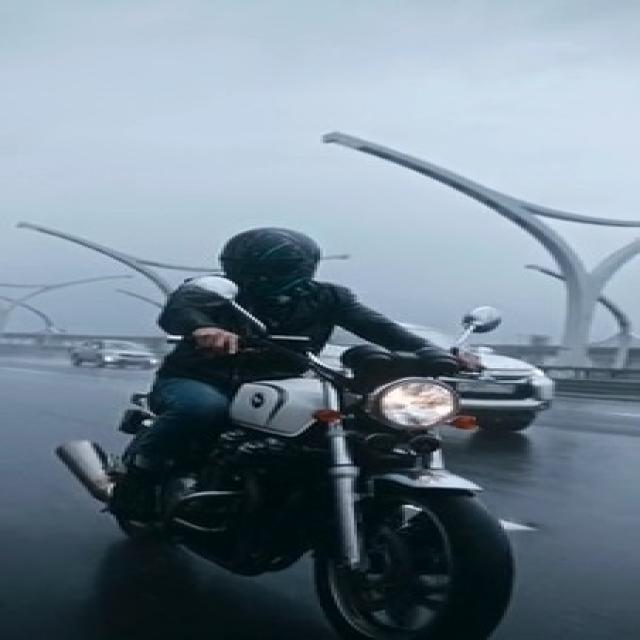Helmet_Wearer: (217, 225, 333, 302)
Jacket_Wearer: (147, 274, 440, 409)
Person: (116, 224, 449, 495)
